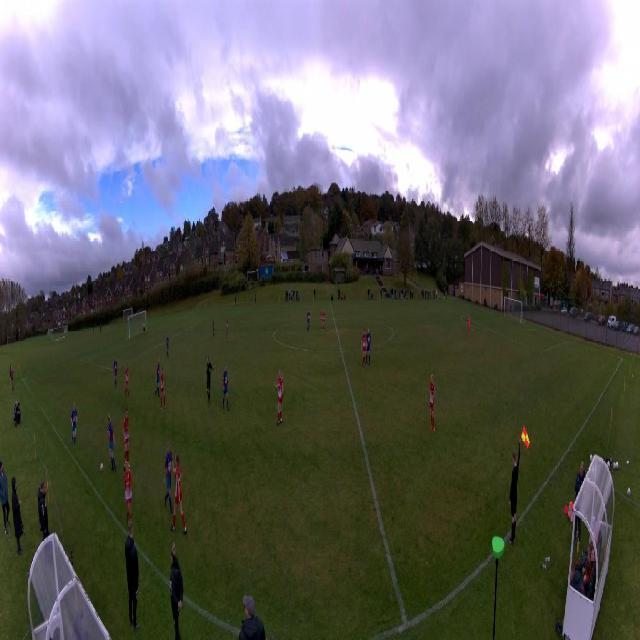ball: (100, 463, 104, 472)
player: (171, 451, 188, 535), (162, 438, 175, 512), (106, 415, 117, 473), (274, 368, 284, 427), (124, 459, 133, 521), (205, 355, 216, 404), (429, 373, 436, 432), (70, 400, 78, 451), (123, 408, 130, 466), (222, 363, 230, 412), (159, 368, 166, 412), (361, 327, 367, 367), (124, 363, 130, 400), (366, 329, 372, 365), (155, 359, 160, 399), (113, 357, 118, 387), (320, 309, 326, 331), (166, 334, 170, 358), (306, 311, 310, 332), (226, 316, 229, 340), (468, 314, 471, 336), (212, 319, 215, 339), (143, 320, 146, 337)
